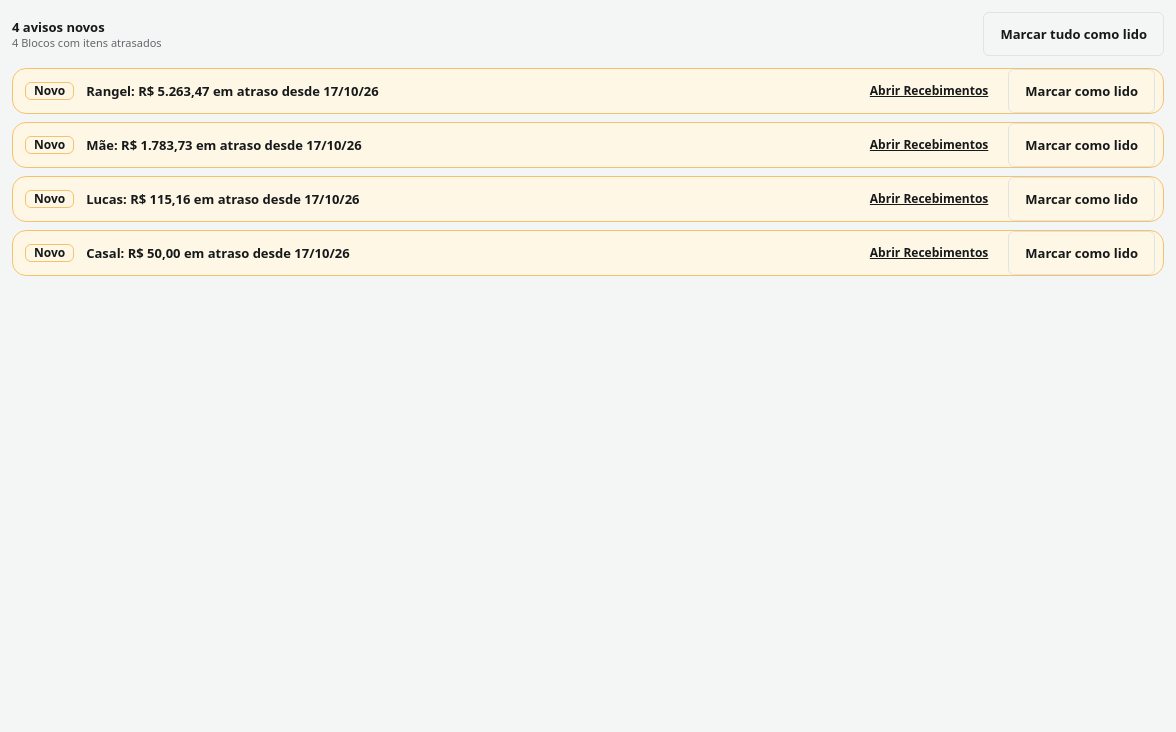
it: Central de Avisos: marcar como lido › sem conexão: o aviso próprio
The width and height of the screenshot is (1176, 732).
Click the button with aria-label "Marcar como lido: ": (1082, 91) [1008,69,1155,113]
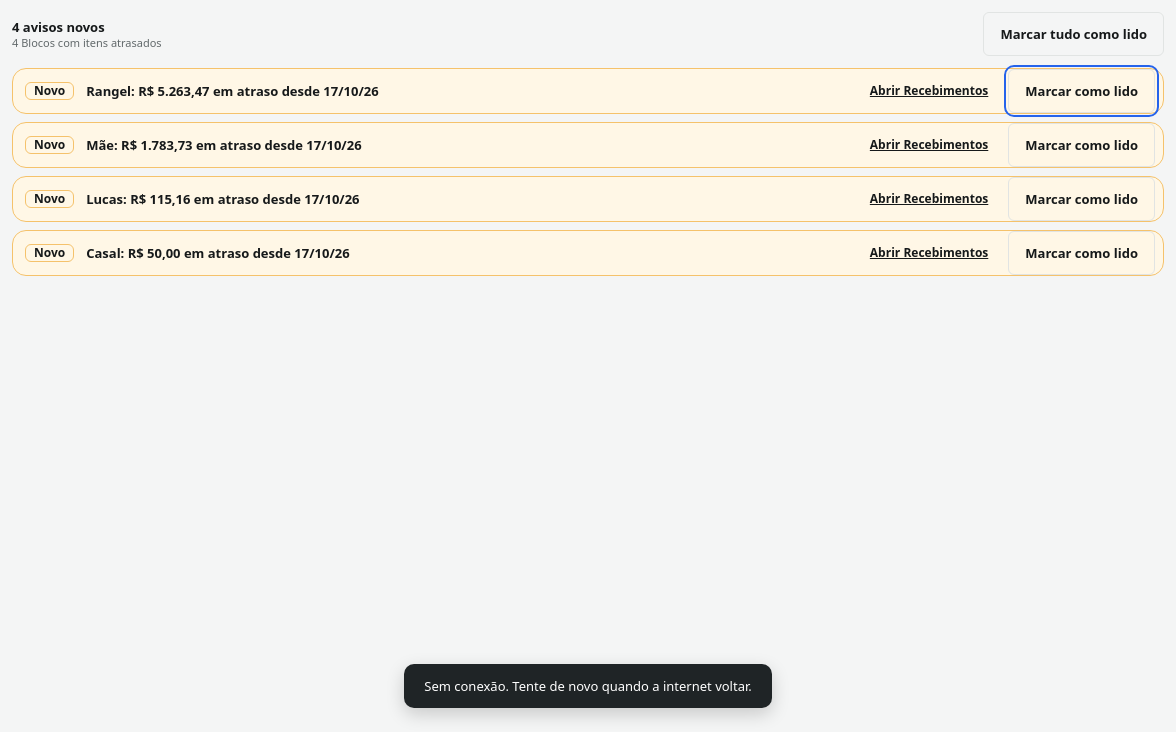
Check: the text "Sem conexão. Tente de novo quando a internet voltar." is shown, box [424,677,752,695]
